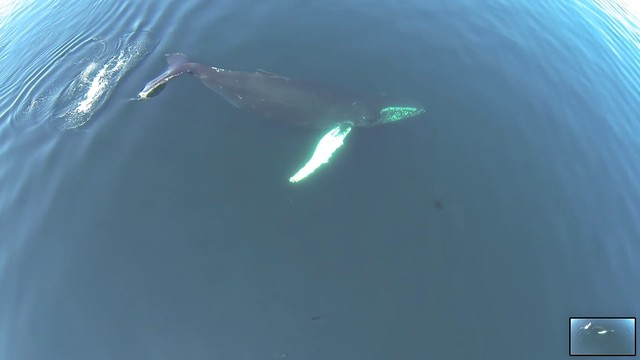whale: (132, 47, 436, 192)
